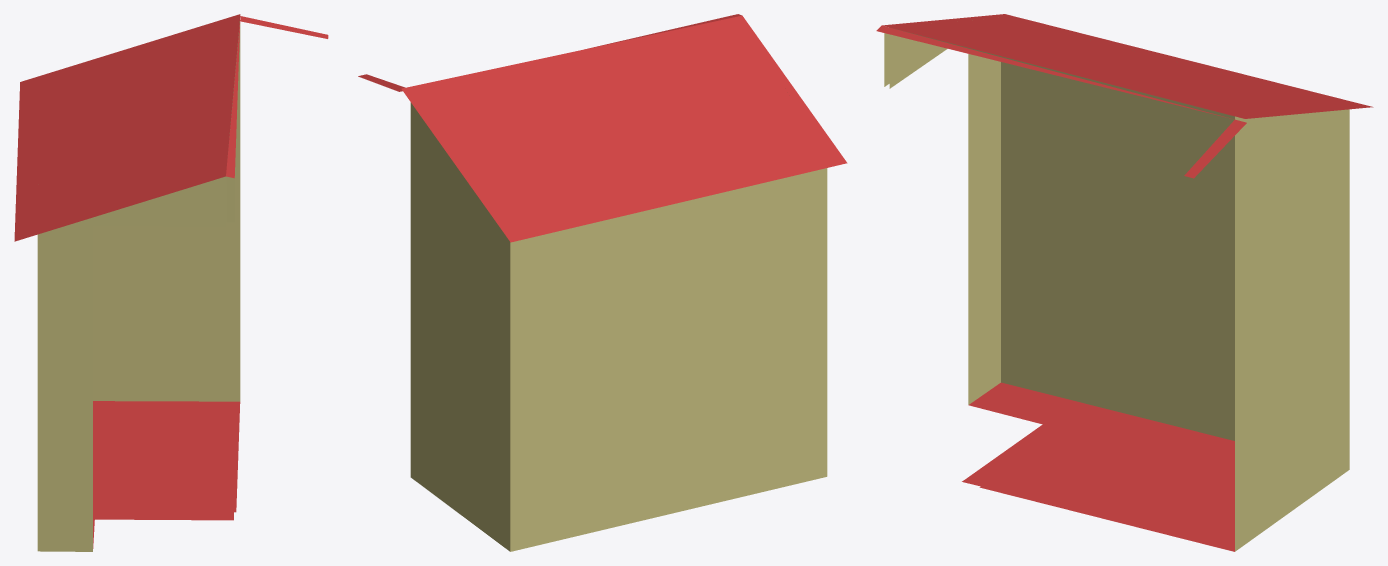
3 views of the same model, side by side, from view 1: azimuth 30°, elevation 25°; view 2: azimuth 150°, elevation 25°; view 3: azimuth 270°, elevation 25° (orthographic). The views are drawn at different scales.
Bounding box in the file's own units: 13.86 × 13.23 × 12.78.
